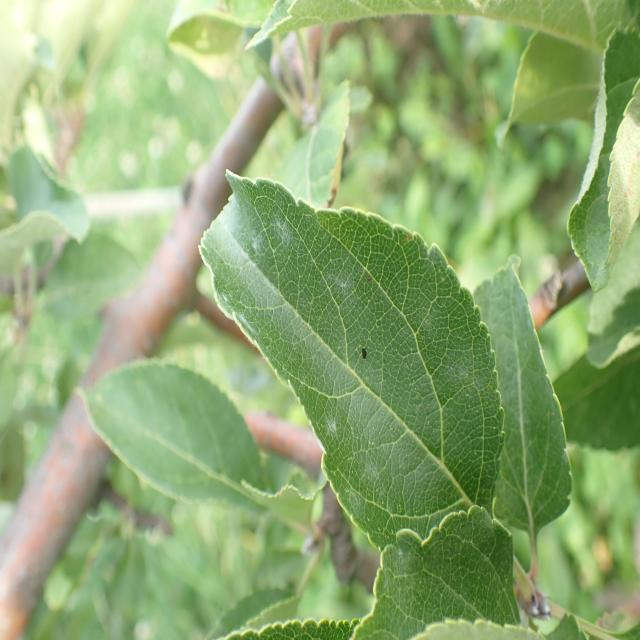Powdery_mildew: (222, 188, 507, 556)
